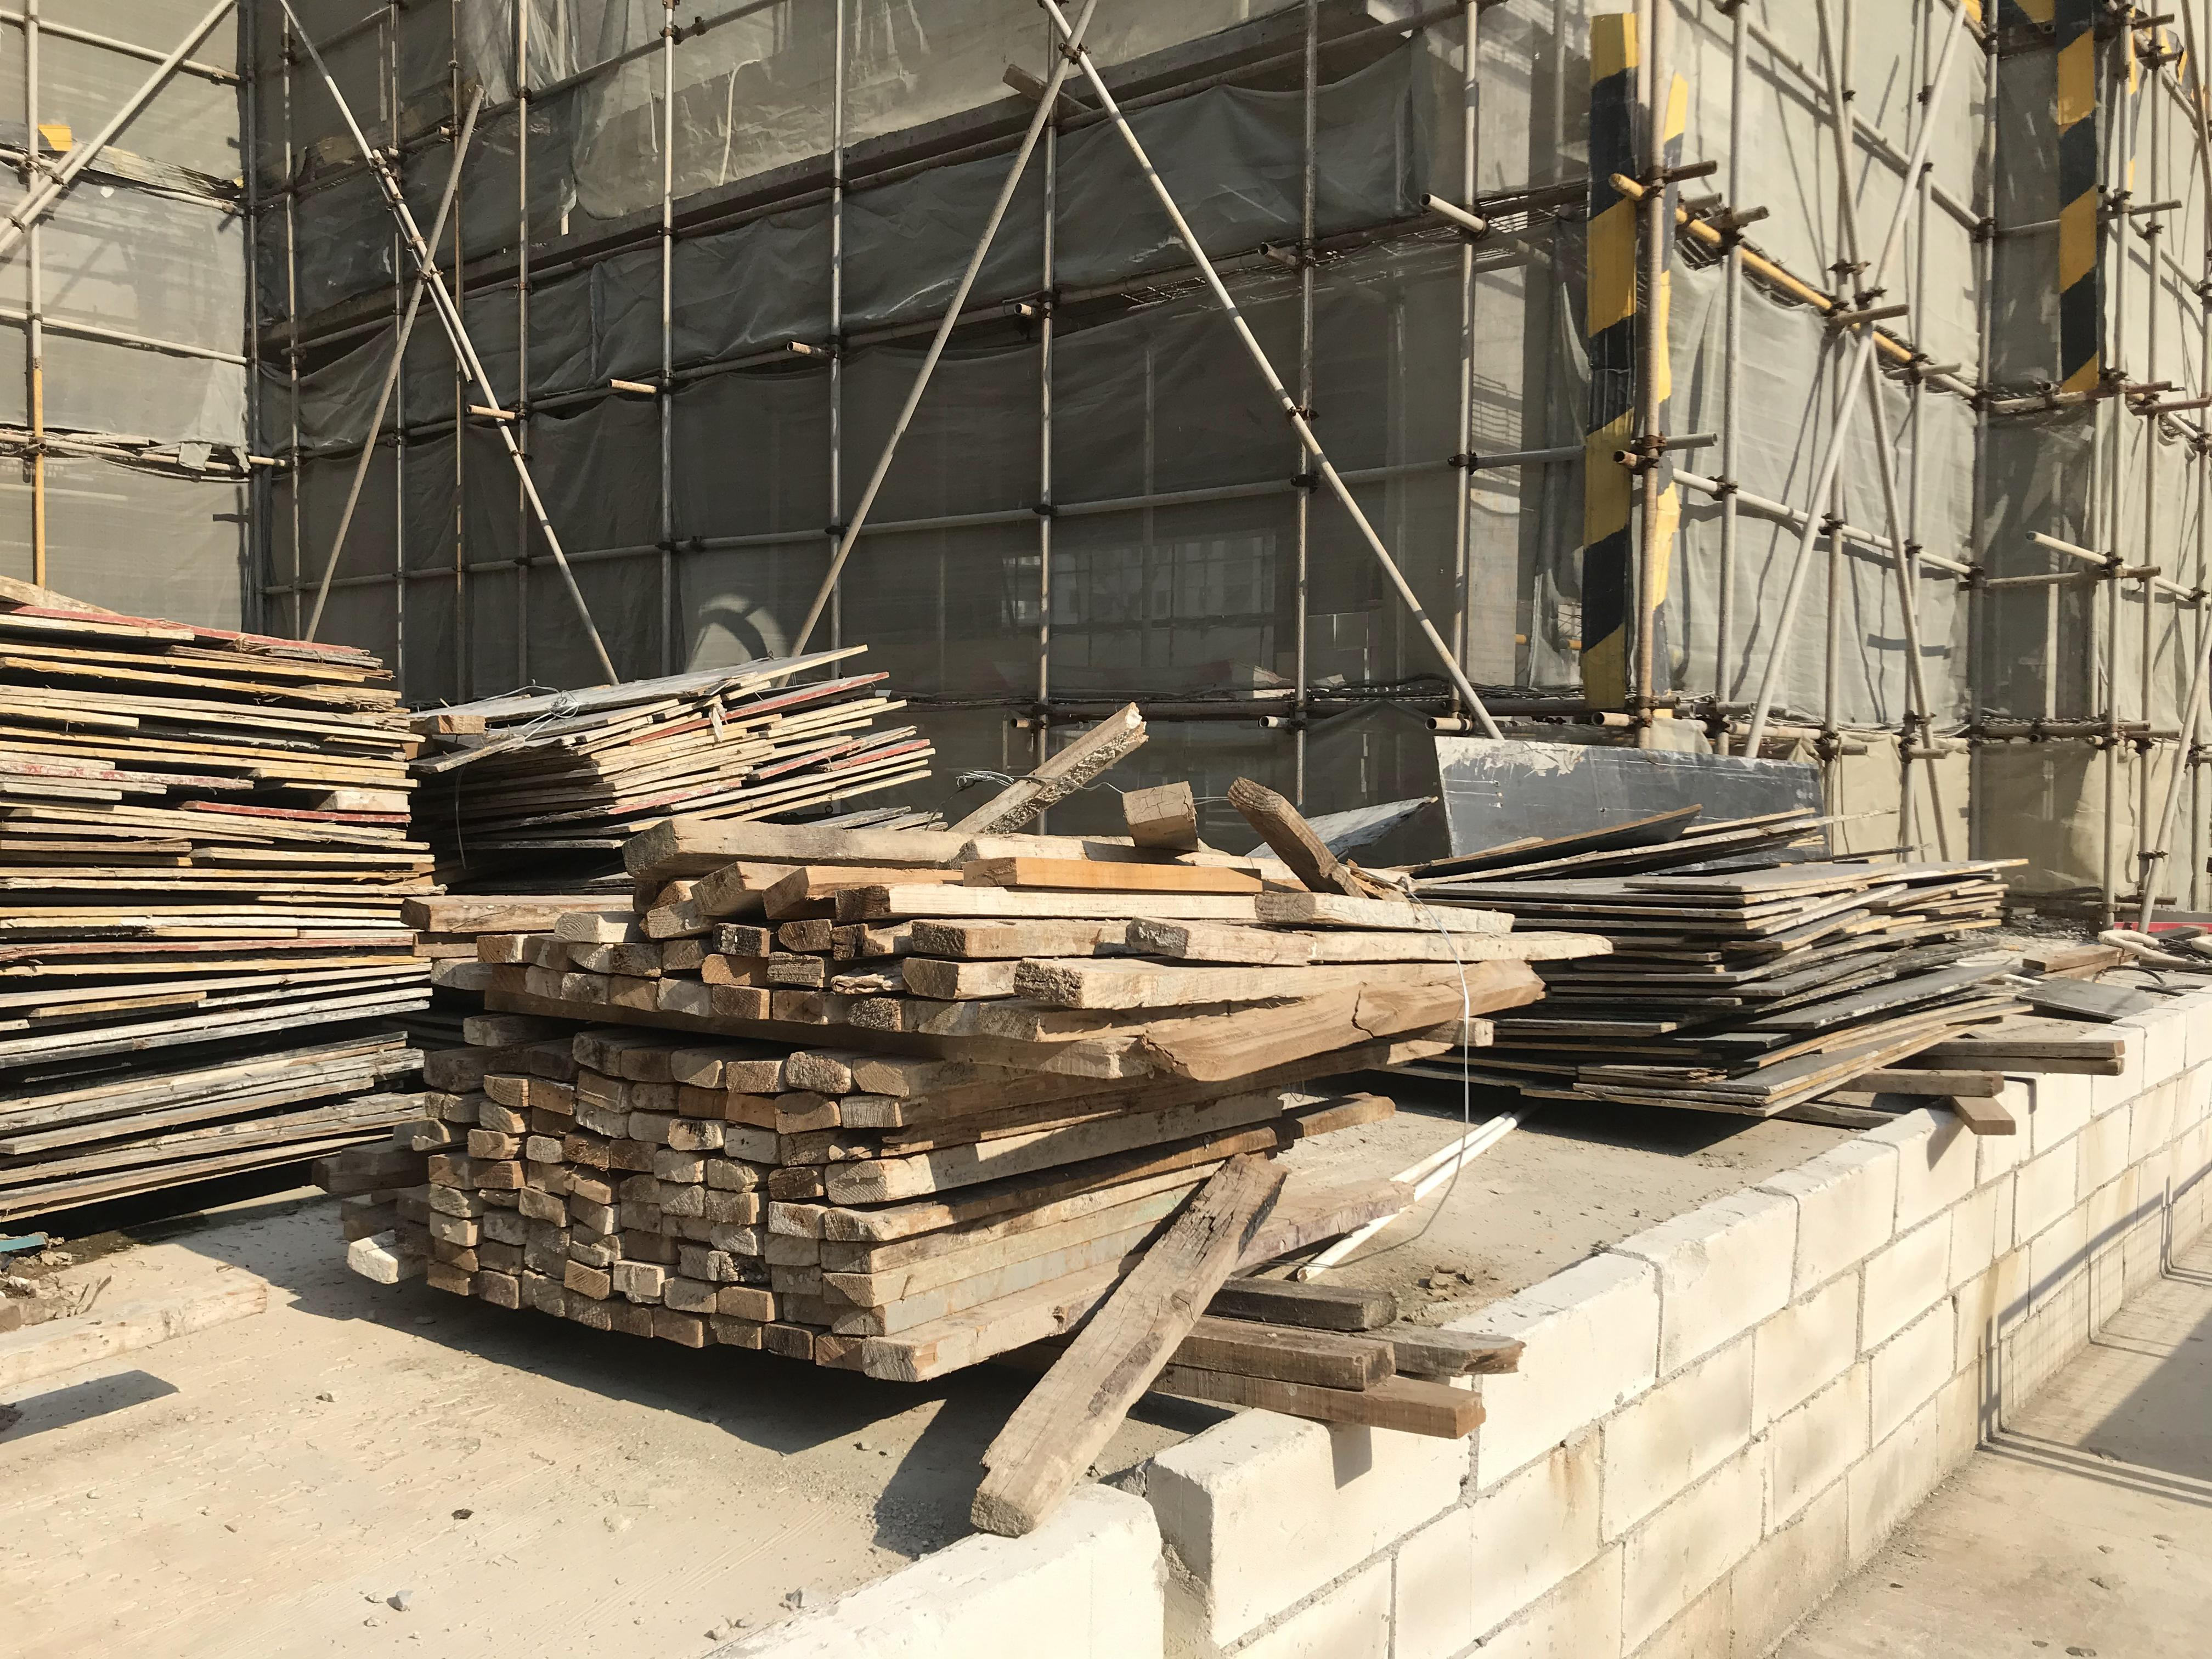board: (0, 596, 448, 1237), (1390, 805, 2057, 1145), (409, 622, 953, 863)
wood: (364, 779, 1564, 1448)
